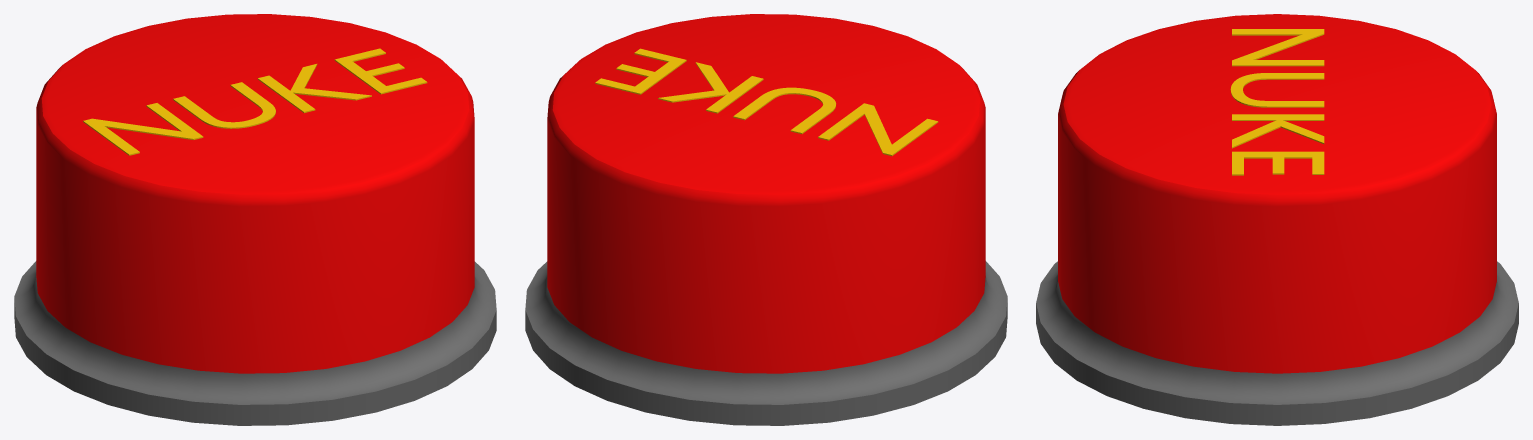
File: NukeButton.fbx
3 views of the same model, side by side, from view 1: azimuth 30°, elevation 25°; view 2: azimuth 150°, elevation 25°; view 3: azimuth 270°, elevation 25° (orthographic).
Parts seen in each view (by area): view 1: Cylinder, Text; view 2: Cylinder, Text; view 3: Cylinder, Text.
Part boxes in pixels (x1,y1,x2,y2): Cylinder: (14,14,496,425); Text: (83,48,427,155); Cylinder: (525,14,1007,425); Text: (595,48,938,156); Cylinder: (1036,14,1518,425); Text: (1230,29,1324,175).
Size of the model in its own units: 198 by 101 by 198.
